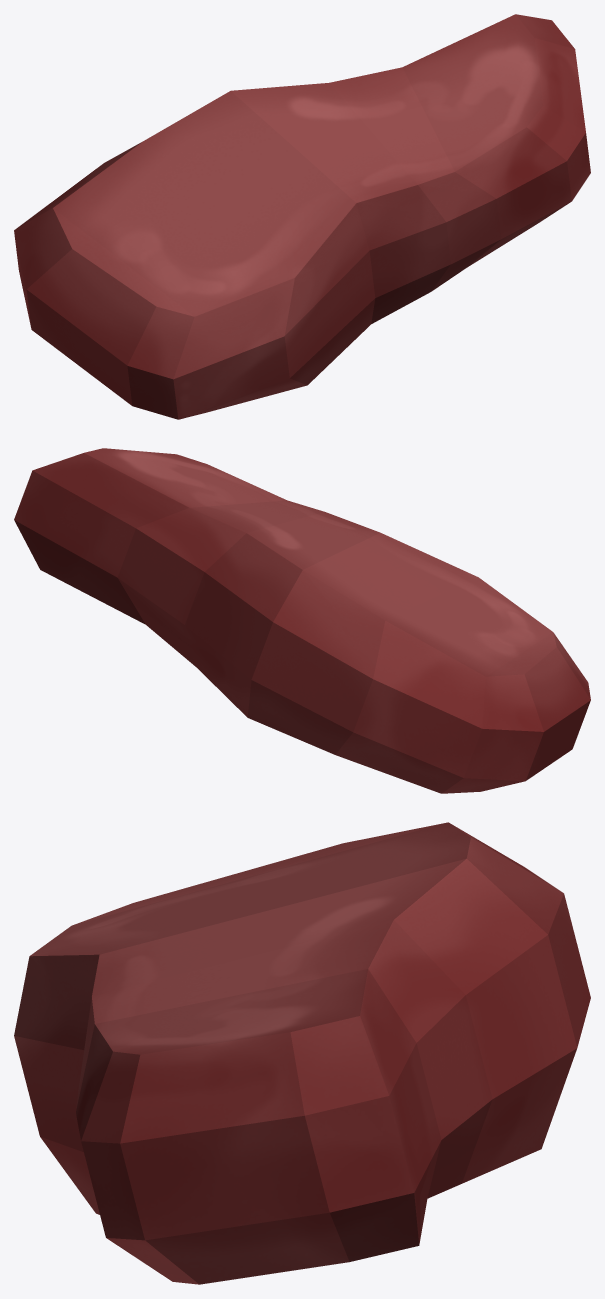
The model's file is chicken_liver.fbx.
The picture shows the model from 3 angles, top to bottom: view 1: azimuth 30°, elevation 25°; view 2: azimuth 150°, elevation 25°; view 3: azimuth 270°, elevation 25°; orthographic projection. The views are drawn at different scales.
Parts seen in each view (by area): view 1: liver; view 2: liver; view 3: liver.
Boxes of the visible parts, box(x1,y1,x2,y2) form: liver: box(14, 14, 590, 419); liver: box(14, 448, 590, 793); liver: box(14, 822, 590, 1284).
Size of the model in its own units: 117 by 54 by 60.73.
1 material, 1 textured.
